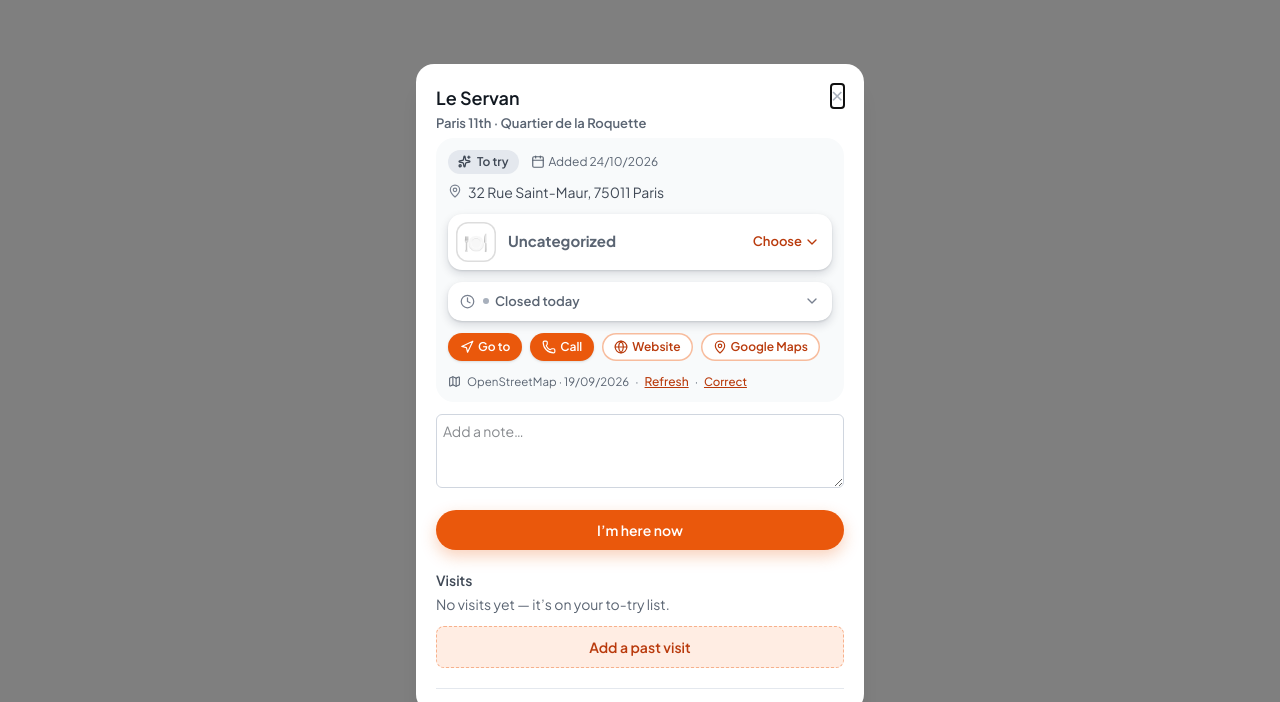
it: RestaurantDetail › with an OpenStreetMap snapshot › unfolds the week, and links the OSM object to correct it
Expected: the heading "Le Servan" is shown, [436,86,520,109]
What coordinates should you click on to do the following:
click the button with aria-label "show the week"
I would click on:
 (537, 300)
Its box is [460,292,820,311].
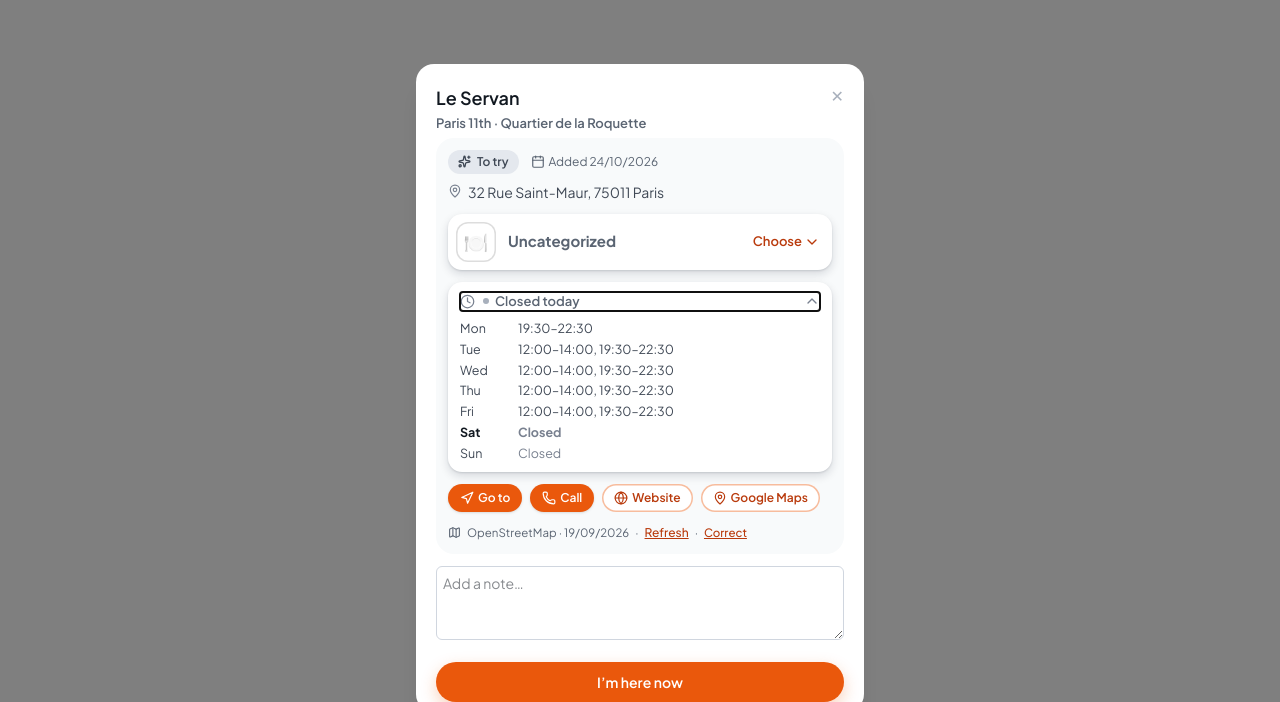
Now the text "Mon" is shown, box [460,320,486,336]
